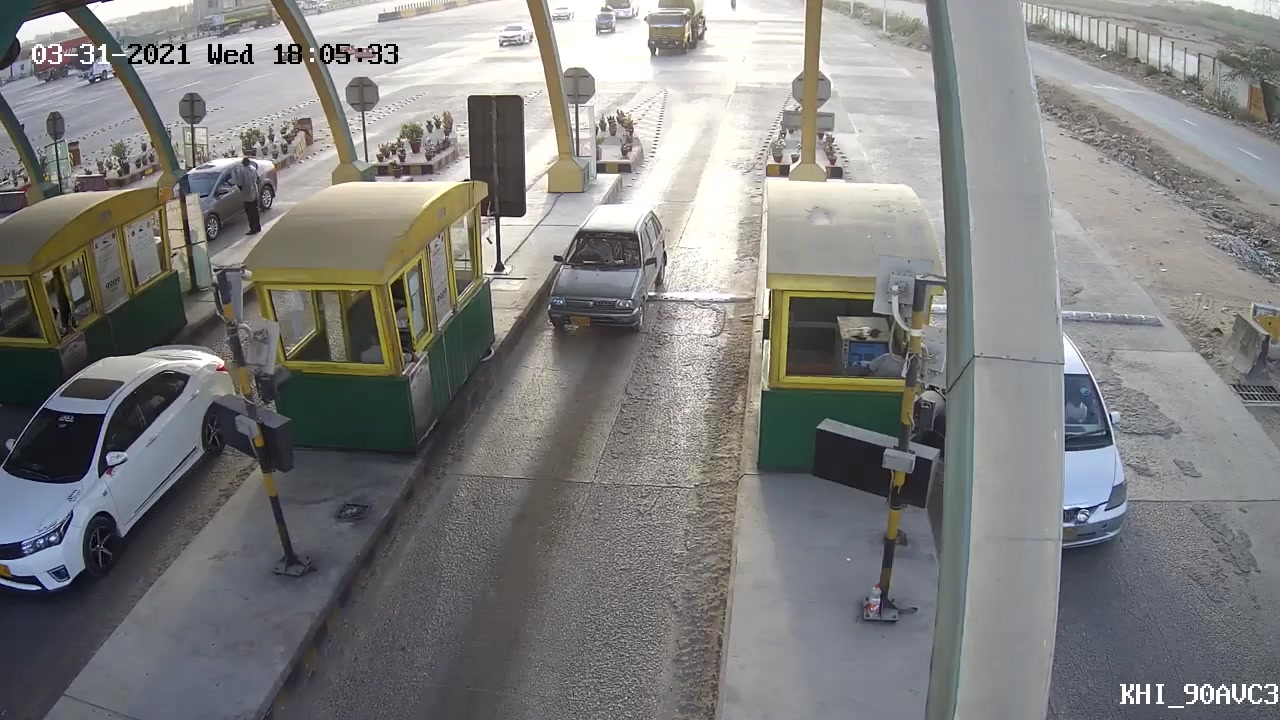F1: (538, 198, 671, 336)
